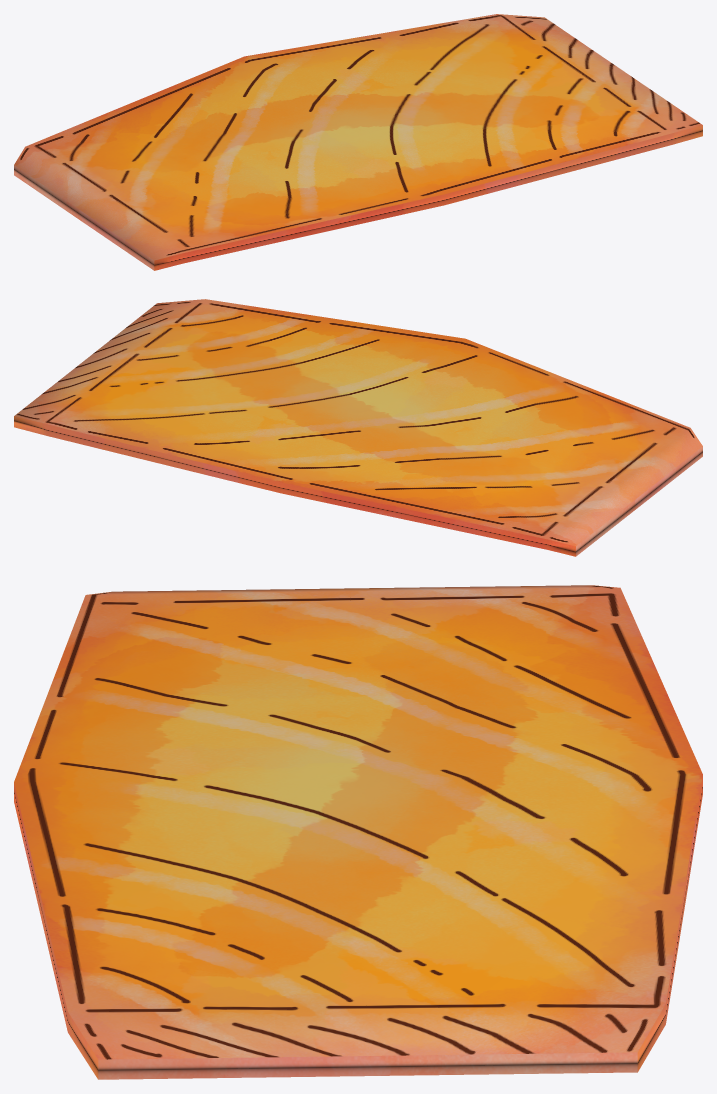
Rendered from salmon thin cut.fbx.
3 views of the same model, one above another, from view 1: azimuth 30°, elevation 25°; view 2: azimuth 150°, elevation 25°; view 3: azimuth 270°, elevation 25° (orthographic). The views are drawn at different scales.
Parts seen in each view (by area): view 1: salmon_thin_cut; view 2: salmon_thin_cut; view 3: salmon_thin_cut.
Boxes of the visible parts, x1=… form: salmon_thin_cut: x1=14, y1=14, x2=702, y2=270; salmon_thin_cut: x1=14, y1=299, x2=702, y2=556; salmon_thin_cut: x1=14, y1=585, x2=702, y2=1079.
Size of the model in its own units: 12.49 by 0.7062 by 7.5.
